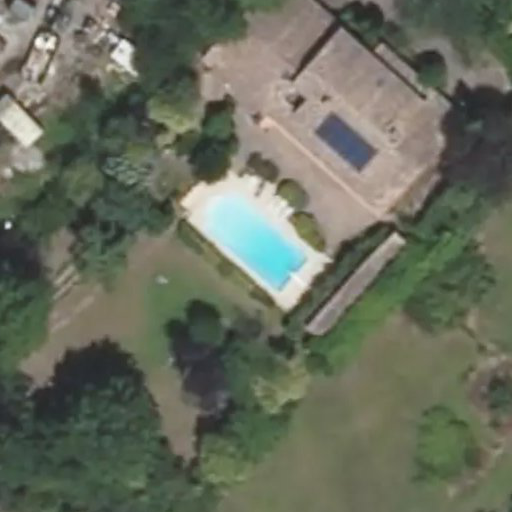pool: (189, 214, 310, 258)
